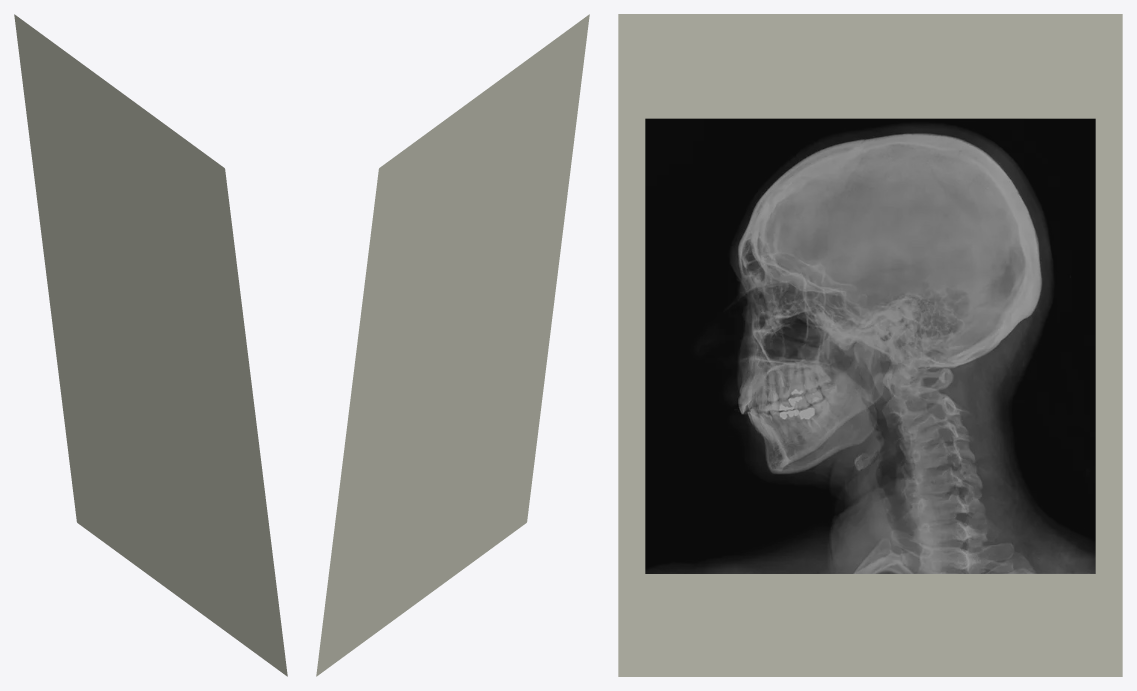
File: RadiografiaOR.fbx
3 renders of one model, left to right at view 1: azimuth 30°, elevation 25°; view 2: azimuth 150°, elevation 25°; view 3: azimuth 270°, elevation 25°, orthographic. The views are drawn at different scales.
Parts seen in each view (by area): view 1: Plane.002; view 2: Plane.002; view 3: Plane.002.
Boxes of the visible parts, x1,y1,x2,y2 form: Plane.002: (14, 14, 287, 676); Plane.002: (316, 14, 589, 676); Plane.002: (618, 14, 1122, 676).
Bounding box in the file's own units: 3.12 × 24.87 × 18.14.
2 materials, 1 textured.
